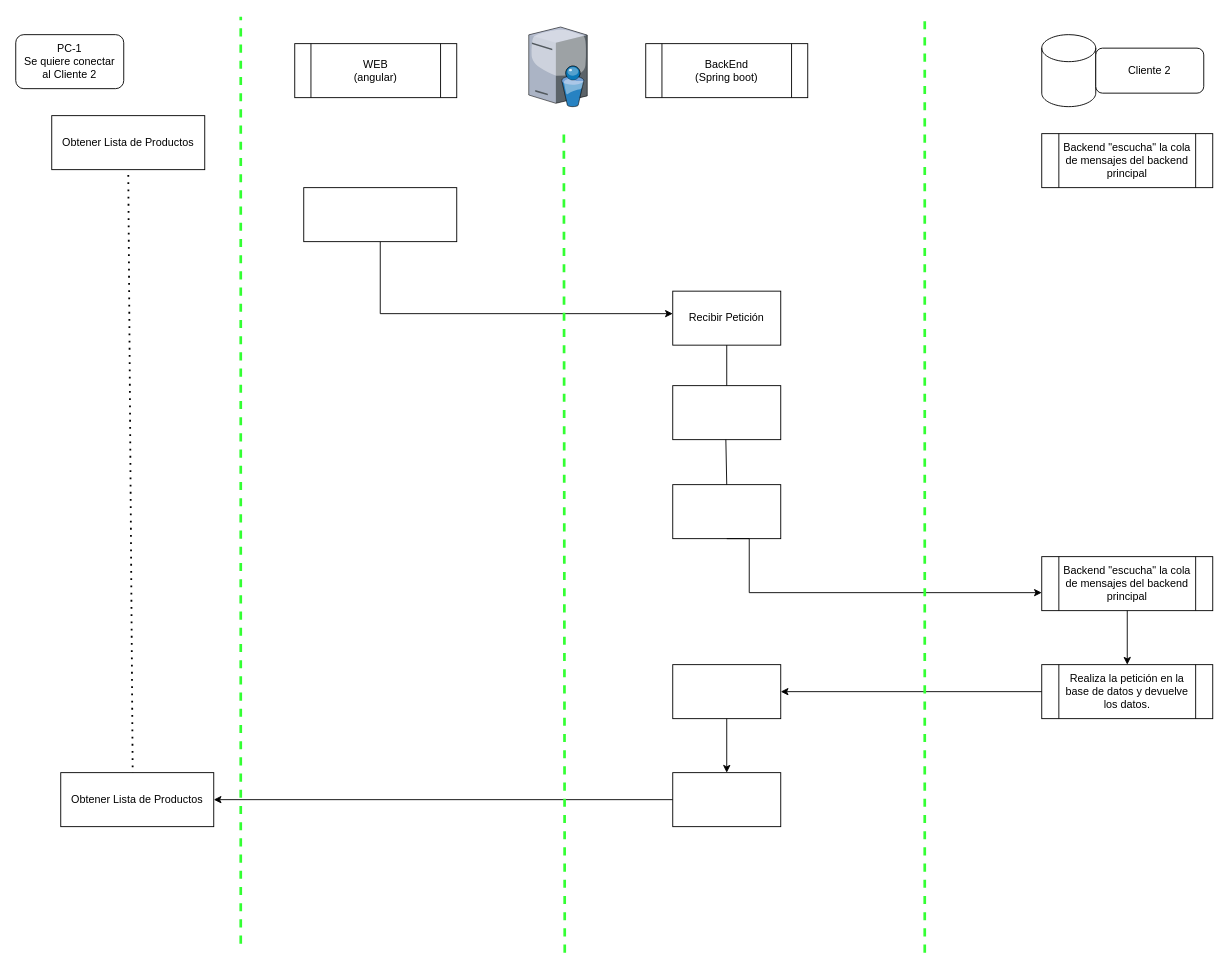
This 1229x970 diagram has some shape labels left out. Here are the shapes that lost their labels. From the top down, the centre of each, then its label:
(380,214): GET productos/paginate
(726,412): Encontrar a que Cliente pertenece: Obtiene la IP del cliente
(726,511): Graba en la cola de mensajes del Cliente 2
(726,691): Recibir Datos puros
(726,799): Procesar Petición
